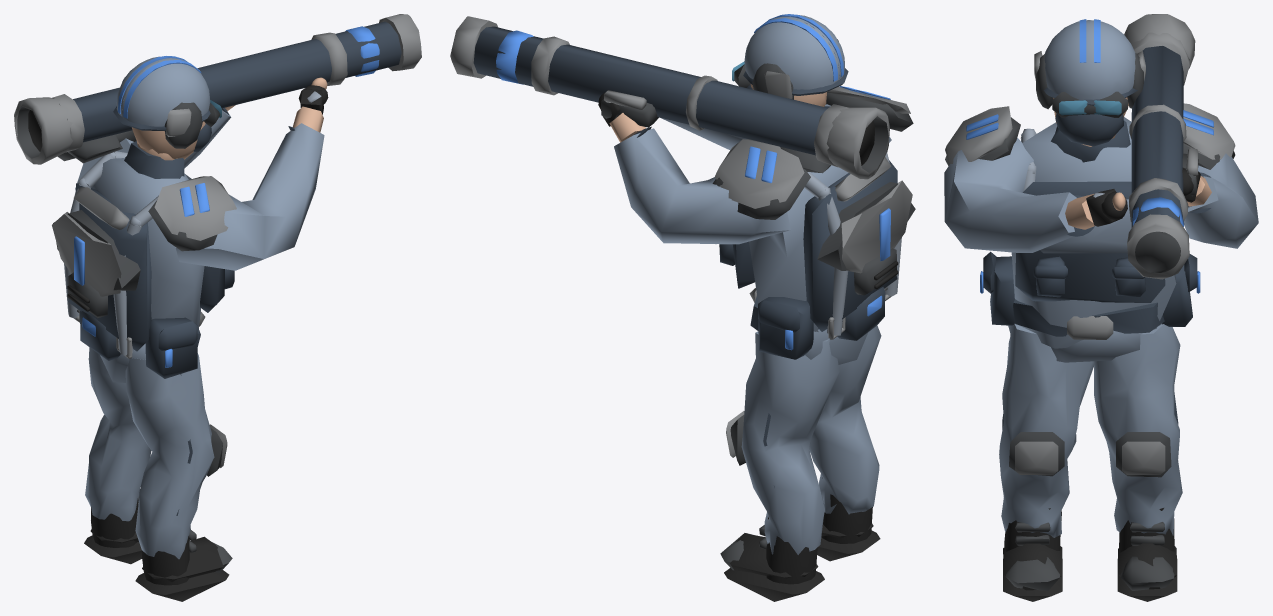
The model's file is bazooka.glb.
The picture shows the model from 3 angles, left to right: view 1: azimuth 30°, elevation 25°; view 2: azimuth 150°, elevation 25°; view 3: azimuth 270°, elevation 25°; orthographic projection. The views are drawn at different scales.
Parts seen in each view (by area): view 1: Torso, Arms, LegR, LegL; view 2: Torso, Arms, LegL, LegR; view 3: Torso, Arms, LegL, LegR.
Boxes of the visible parts, x1,y1,x2,y2 form: Torso: [52, 56, 236, 515]; Arms: [14, 14, 421, 270]; LegR: [125, 353, 232, 601]; LegL: [84, 347, 151, 564]; Torso: [712, 14, 915, 487]; Arms: [450, 16, 891, 244]; LegL: [720, 331, 839, 601]; LegR: [809, 325, 881, 561]; Torso: [945, 19, 1235, 460]; Arms: [944, 14, 1258, 279]; LegL: [1094, 324, 1182, 601]; LegR: [999, 323, 1094, 601].
Size of the model in its own units: 1.44 by 1.89 by 0.9246.
